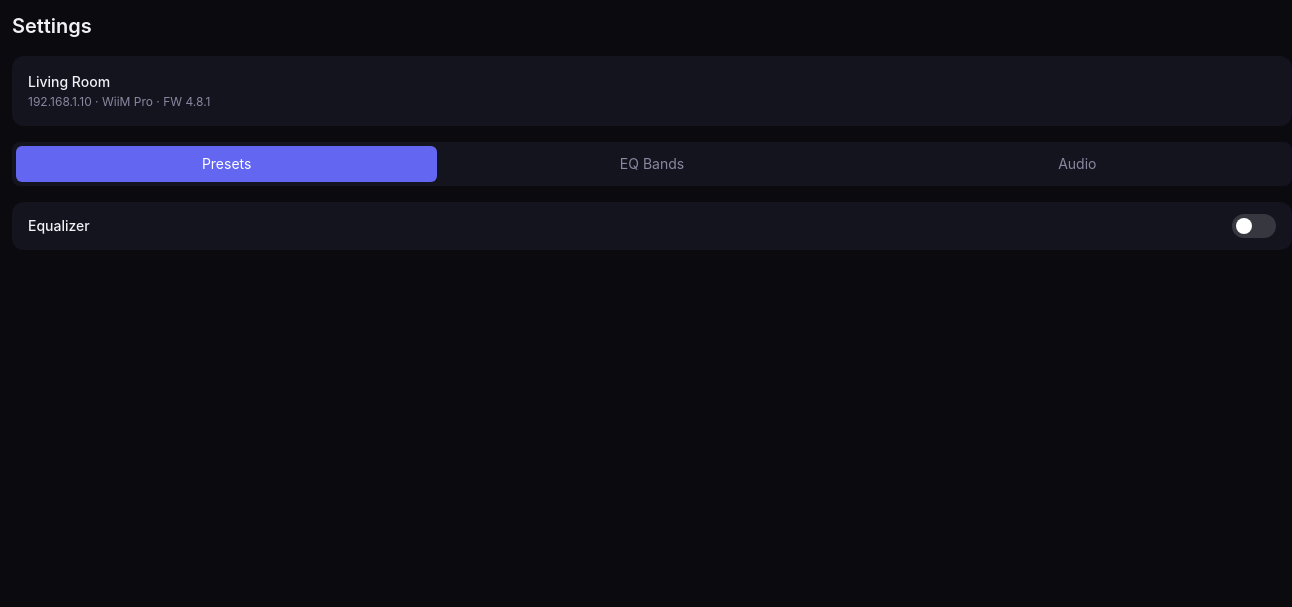
Test: EQSettings tabs and interactions › shows input source buttons on Audio tab
Click the button "Audio". click: (1077, 164)
box: [867,146,1288,182]
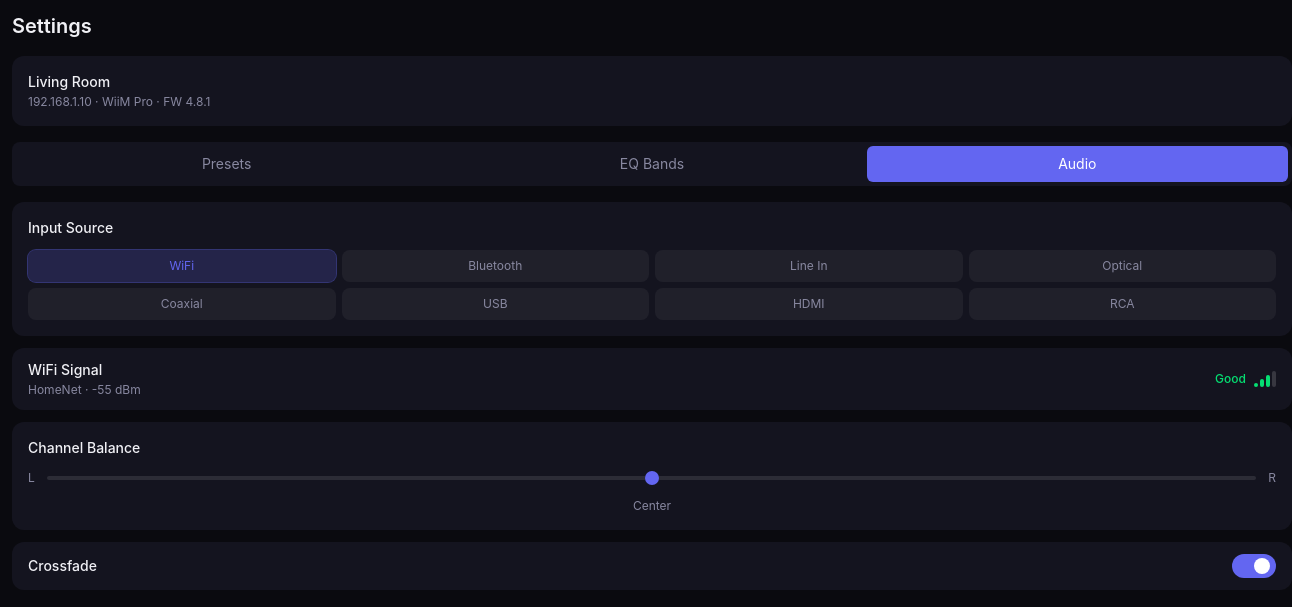
Check: the text "Input Source" is shown, box [28,219,113,236]
Check: the button "WiFi" is shown, box [28,250,336,282]
Check: the button "Bluetooth" is shown, box [342,250,649,282]
